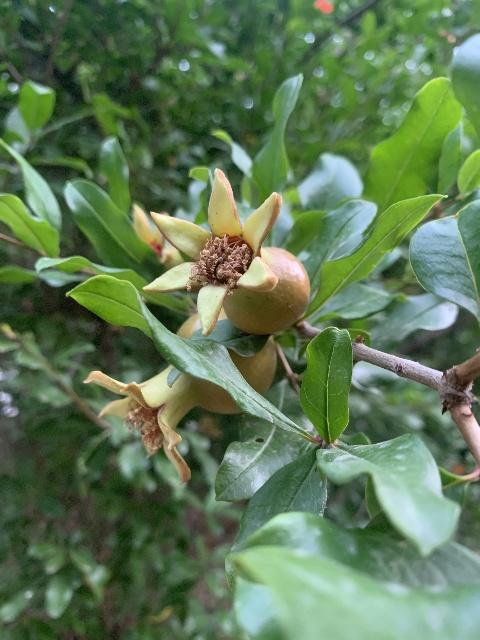early-fruit: (82, 306, 274, 482), (141, 167, 310, 339)
